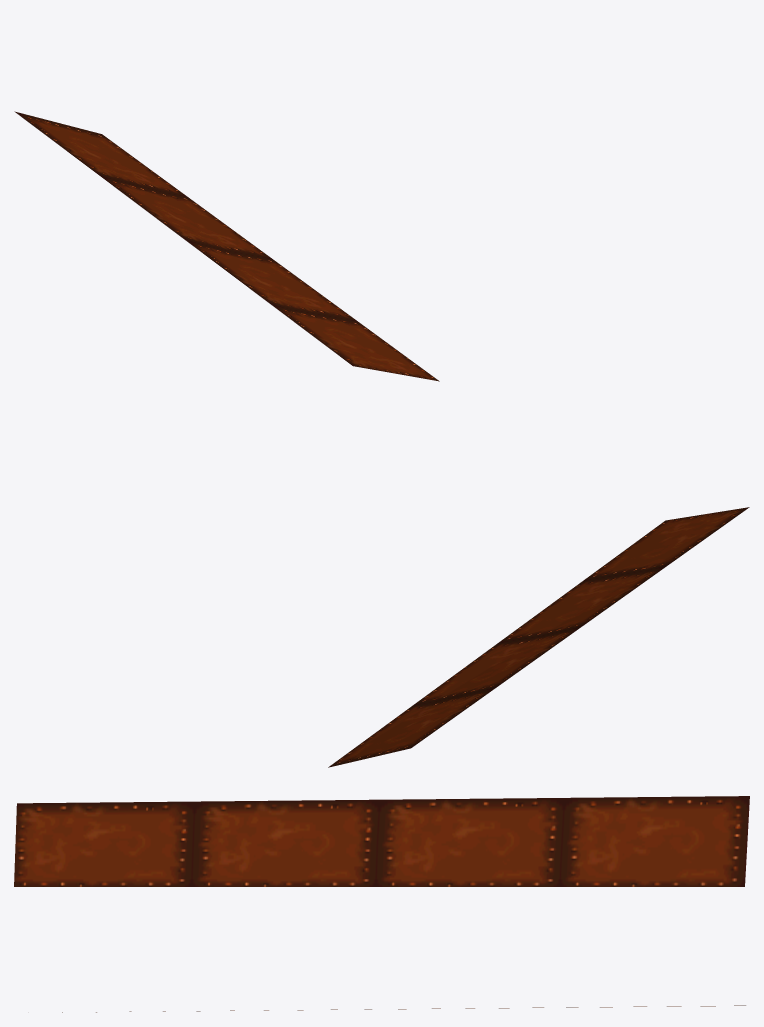
Rendered from Schiff_Mitte6_1258.glb.
3 renders of one model, top to bottom at view 1: azimuth 30°, elevation 25°; view 2: azimuth 150°, elevation 25°; view 3: azimuth 270°, elevation 25°, orthographic. The views are drawn at different scales.
Parts seen in each view (by area): view 1: pPlaneShape17; view 2: pPlaneShape17; view 3: pPlaneShape17.
Part boxes in pixels (left/top/right/bottom): pPlaneShape17: left=14, top=111, right=439, bottom=381; pPlaneShape17: left=328, top=507, right=749, bottom=767; pPlaneShape17: left=14, top=796, right=749, bottom=886.
Bounding box in the file's own units: 2.04 × 0.2061 × 3.02.
Materials: 2 (2 with a texture image).
